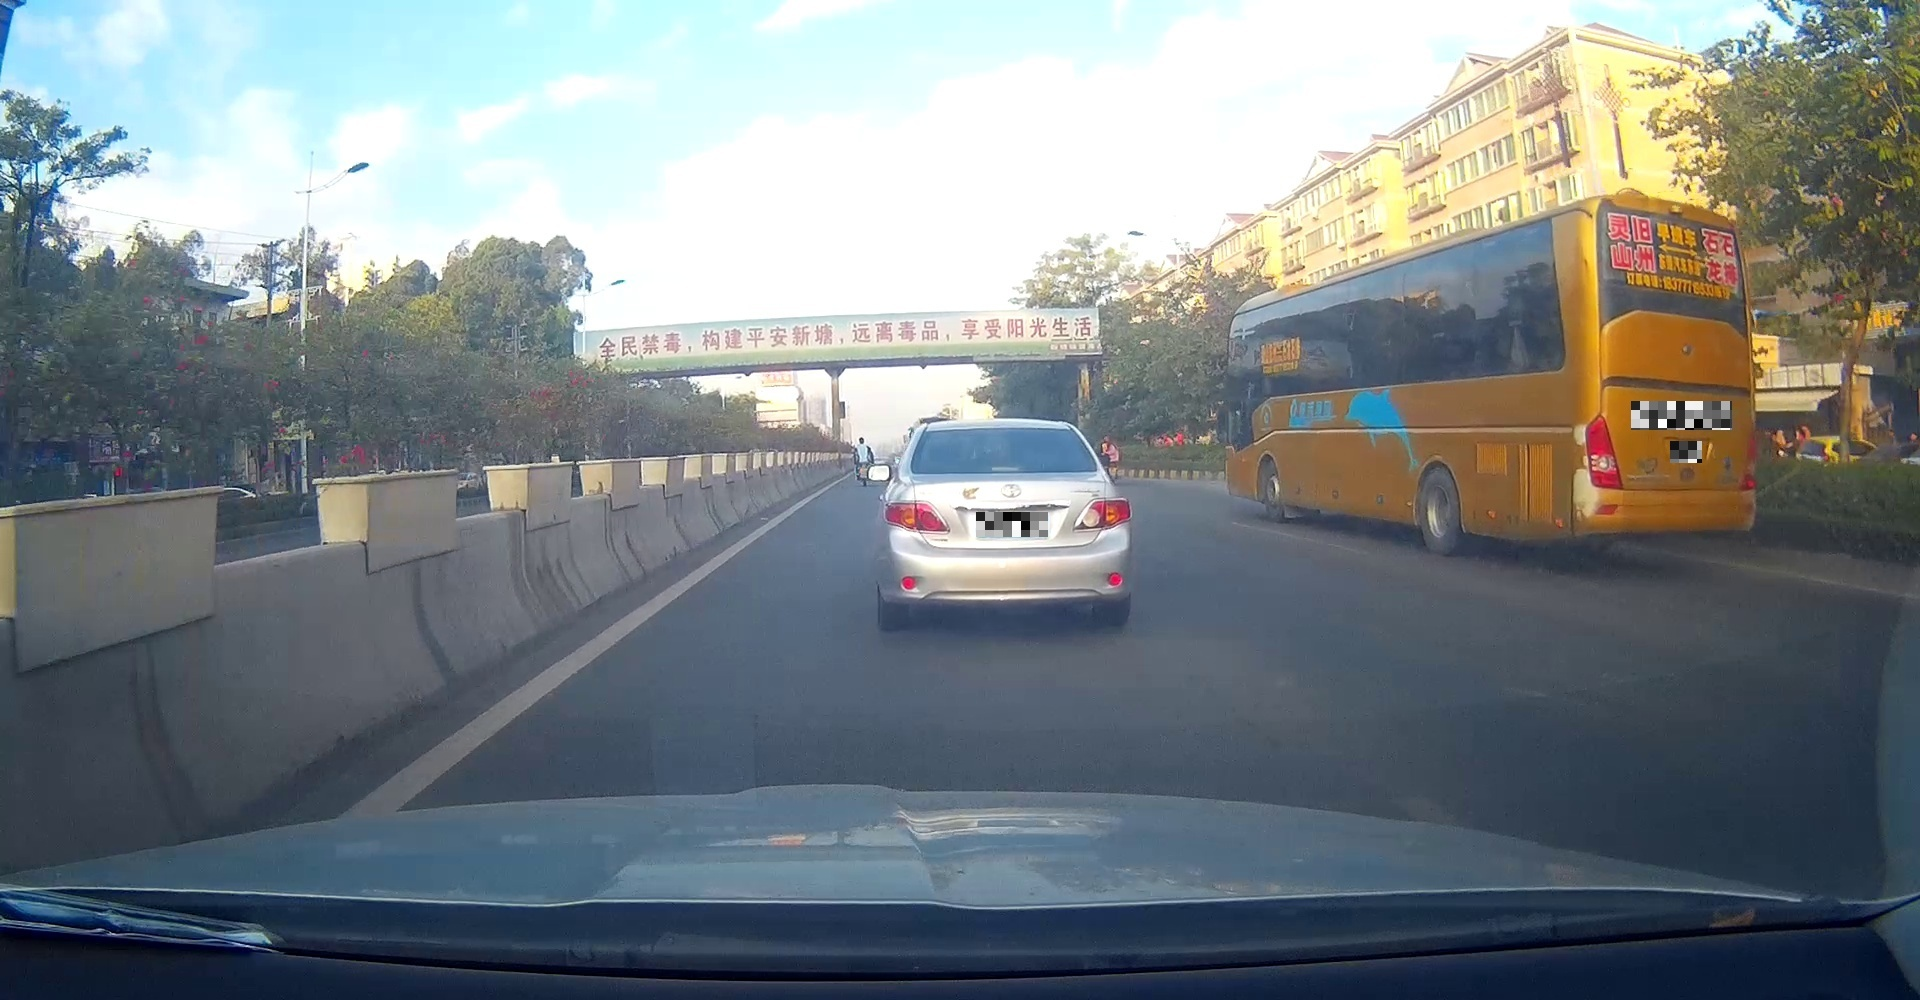L_light: (1583, 412, 1625, 492), (883, 500, 951, 536)
R_light: (1070, 497, 1131, 533), (1735, 426, 1759, 492)
T_light: (1671, 301, 1721, 320), (990, 426, 1015, 437)
day-no: (1580, 194, 1761, 555), (880, 419, 1134, 632)
plate_1: (977, 511, 1048, 537)
plate_2: (1630, 401, 1732, 430)
plate_3: (1670, 442, 1702, 463)
